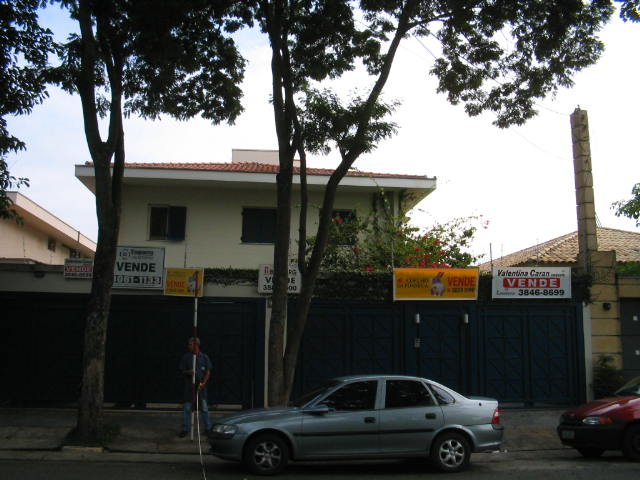crown: (256, 2, 638, 157), (1, 1, 249, 135)
stem: (60, 240, 126, 446), (253, 371, 303, 443)
stick: (188, 270, 202, 442)
tree: (249, 1, 639, 447), (1, 1, 253, 447)
